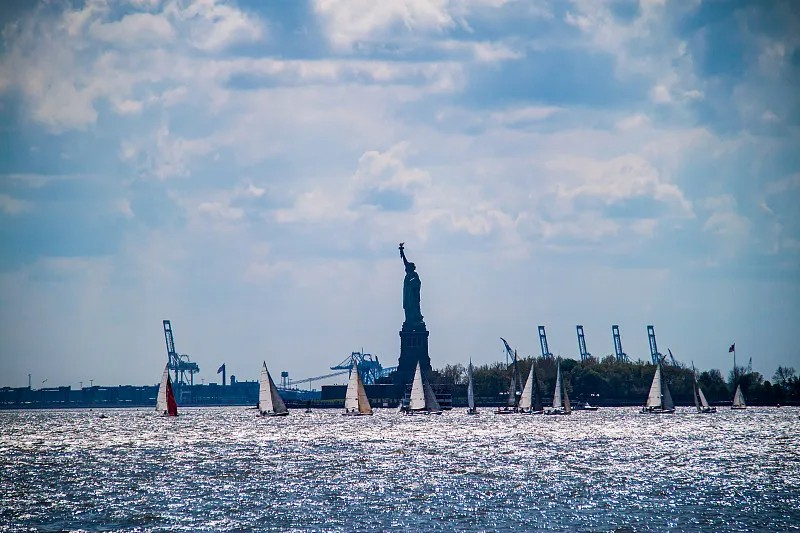SL: (396, 241, 432, 372)
